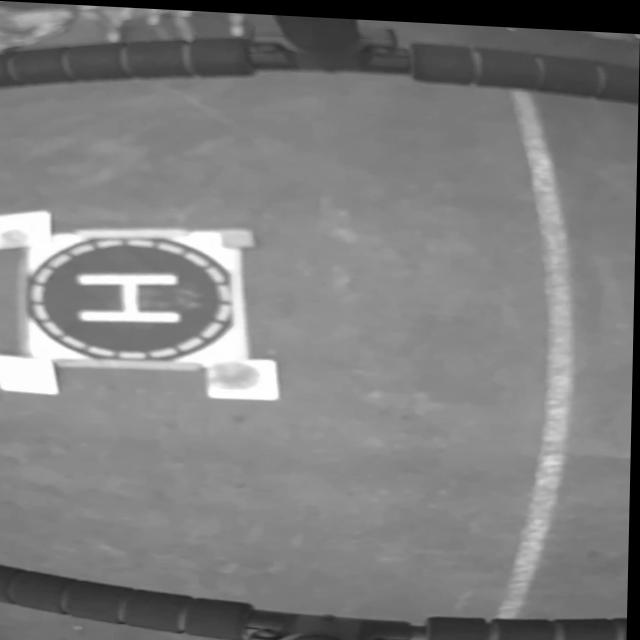Helipad: (76, 270, 184, 320)
